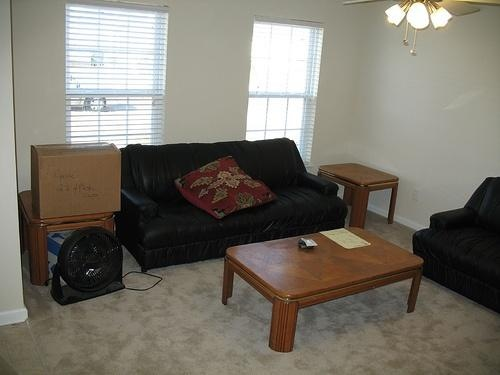sofa: (121, 134, 352, 274), (416, 175, 500, 314)
